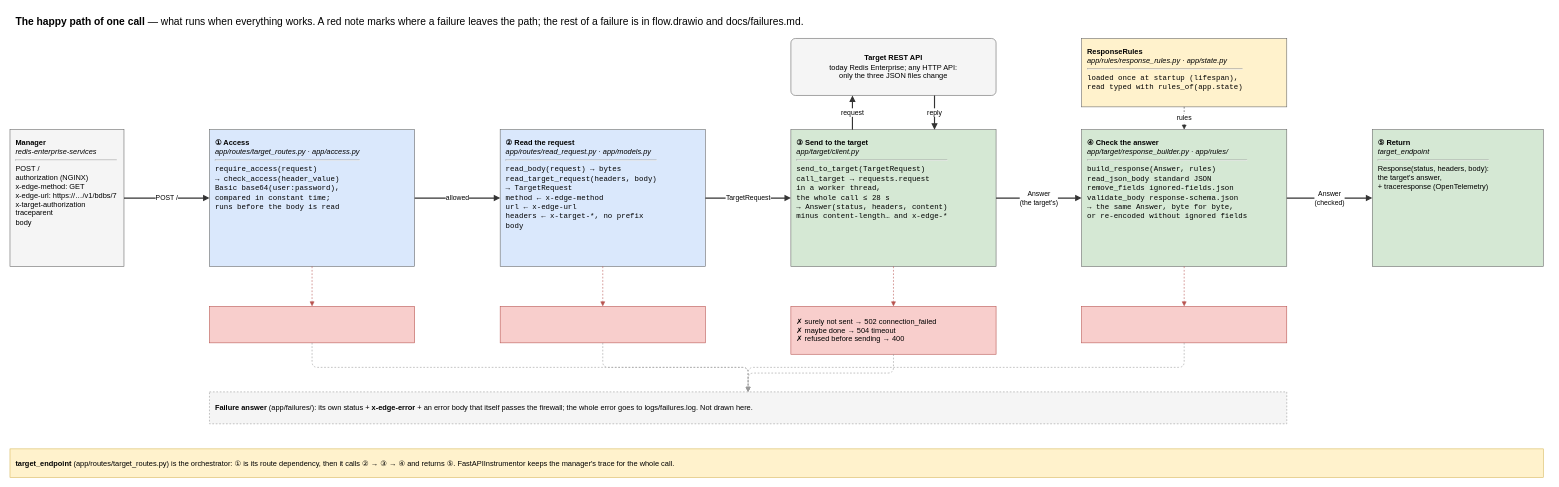
Some shapes in this 1559 by 487 pixel diagram are drawn without their labels. The centre of each missing label's shape, as x and y in pixels:
✗ bad x-edge-* or a refused x-target-* → 400 invalid_request: (x=602, y=324)
✗ not JSON / too deep / breaks the schema → 502 response_rejected: (x=1184, y=324)
✗ wrong or missing authorization → 401 unauthorized: (x=312, y=324)
